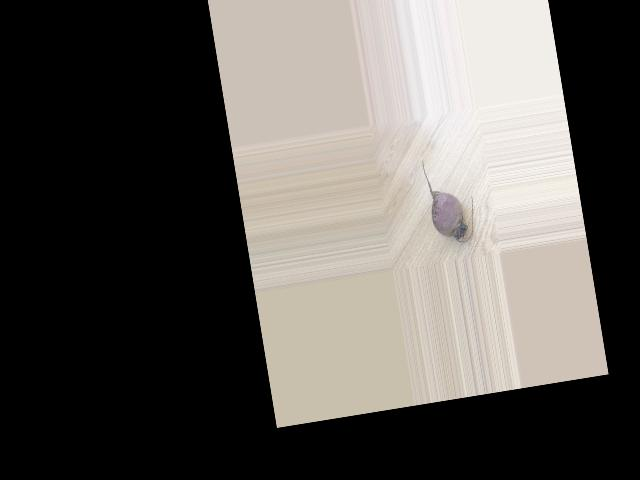beet: (421, 152, 478, 246)
